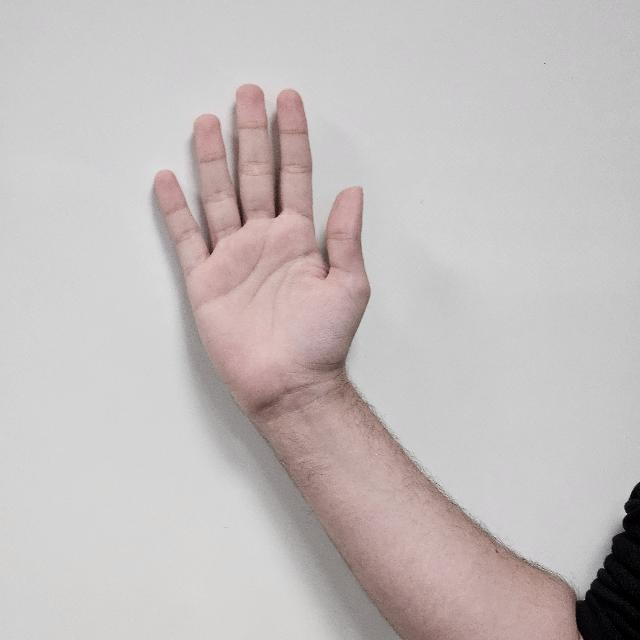X: (146, 80, 380, 432)
